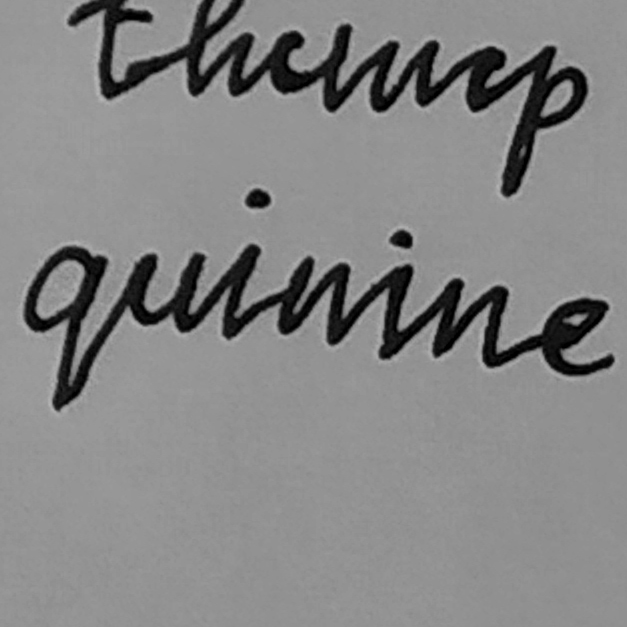e: (535, 292, 621, 383)
i: (214, 181, 275, 346), (365, 224, 421, 365)
n: (423, 272, 515, 369), (275, 252, 355, 352)
q: (17, 240, 112, 414)
u: (121, 245, 211, 337)
